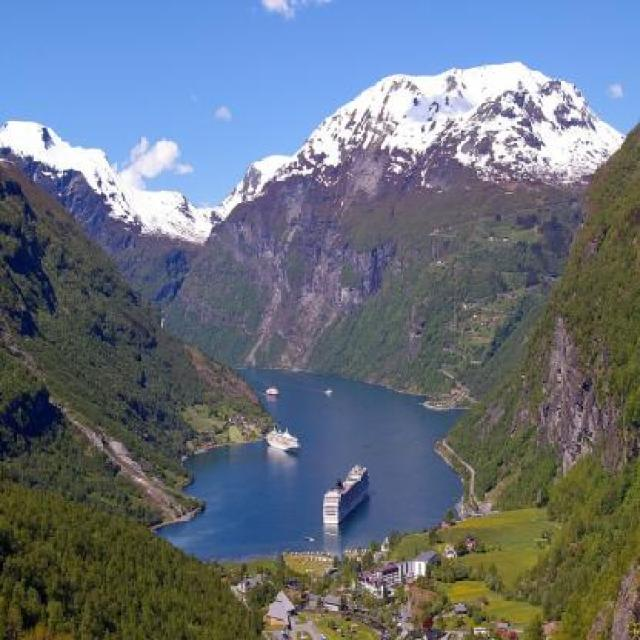ship: (322, 462, 370, 523), (266, 427, 300, 451)
